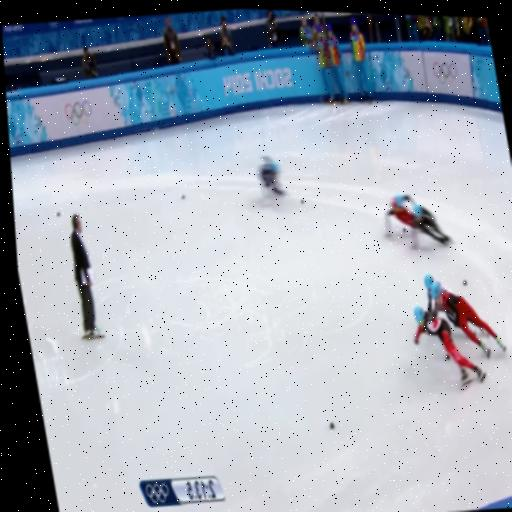Skater: (430, 282, 505, 358), (413, 307, 485, 385), (411, 204, 450, 244), (384, 195, 413, 236), (258, 156, 283, 196), (423, 274, 433, 311)
